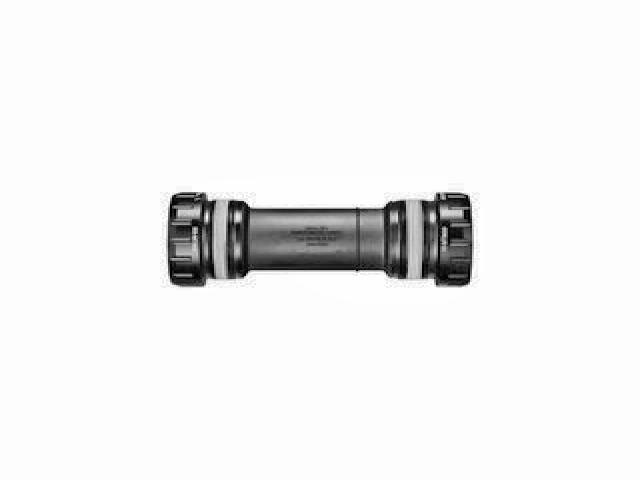bottom_bracket: (162, 187, 478, 291)
